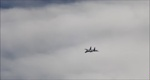maybay_muctieu: (83, 44, 98, 54)
